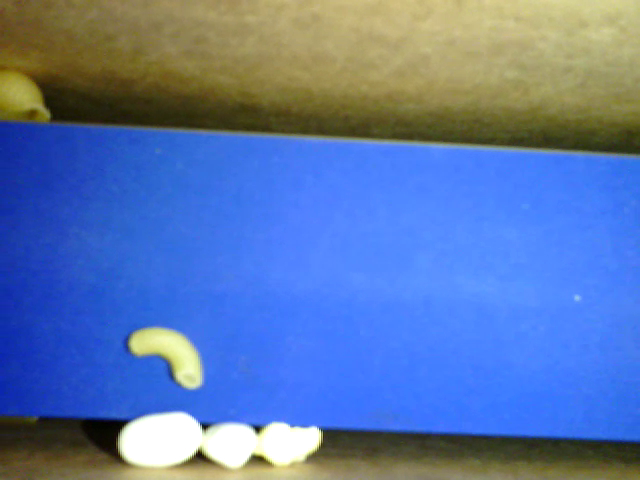elbow: (126, 328, 205, 393)
shell: (2, 66, 52, 125)
